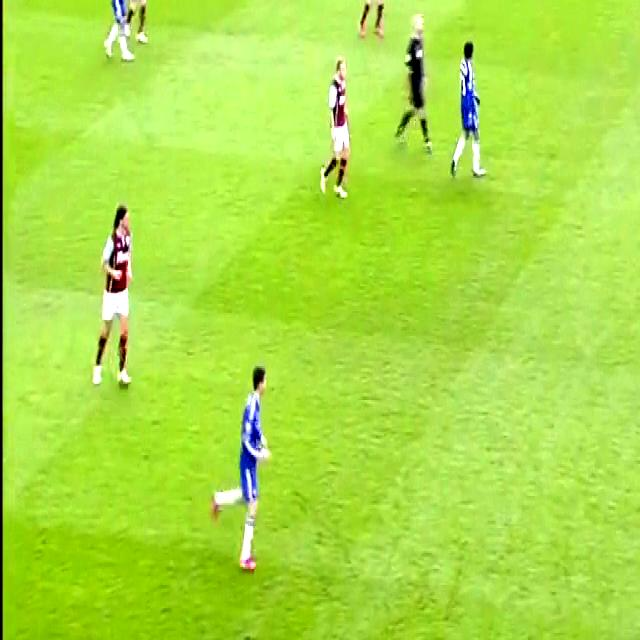referee: (394, 6, 432, 163)
soccer-player: (210, 348, 282, 576), (84, 185, 140, 402), (448, 28, 492, 190), (313, 48, 355, 210), (102, 0, 149, 71), (357, 0, 395, 43)
